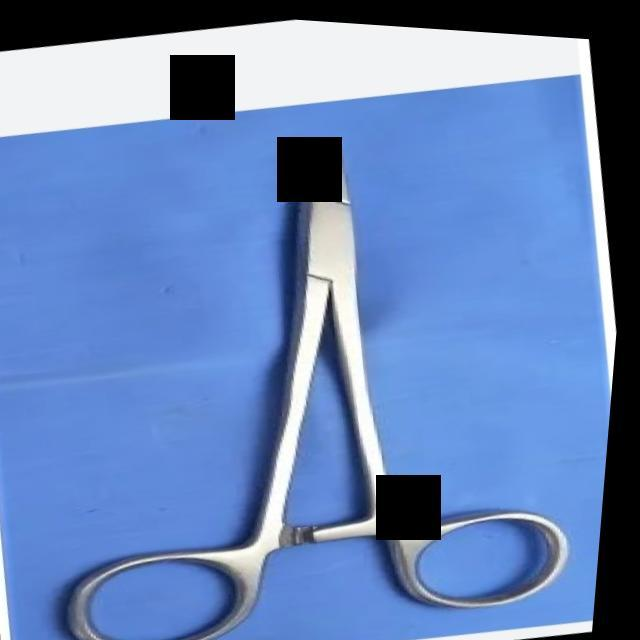Needle Holder: (0, 80, 622, 640)
